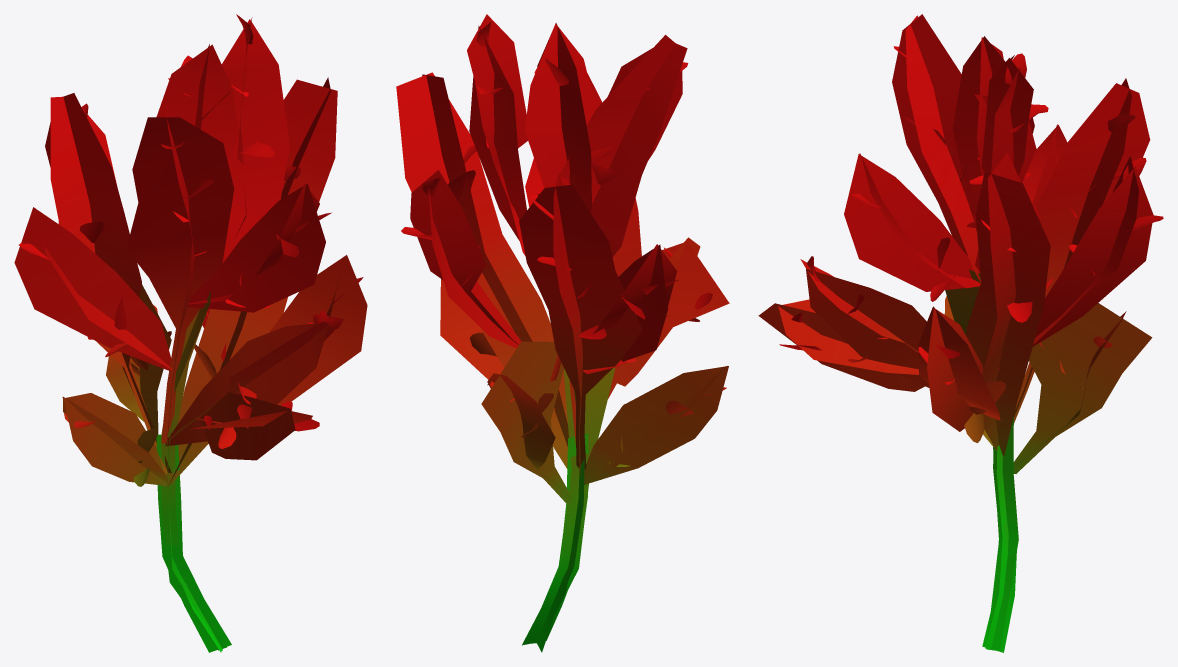
File: Bilberry_LOD0_Var6_vldufeiha.fbx
3 views of the same model, side by side, from view 1: azimuth 30°, elevation 25°; view 2: azimuth 150°, elevation 25°; view 3: azimuth 270°, elevation 25° (orthographic). The views are drawn at different scales.
Visible parts, largest first — view 1: _rkud_Var6_LOD0; view 2: _rkud_Var6_LOD0; view 3: _rkud_Var6_LOD0.
Boxes of the visible parts, left/top/right/bottom form: _rkud_Var6_LOD0: left=14, top=14, right=367, bottom=652; _rkud_Var6_LOD0: left=396, top=14, right=729, bottom=652; _rkud_Var6_LOD0: left=758, top=14, right=1163, bottom=652.
Bounding box in the file's own units: 8.08 × 16.19 × 9.66.
